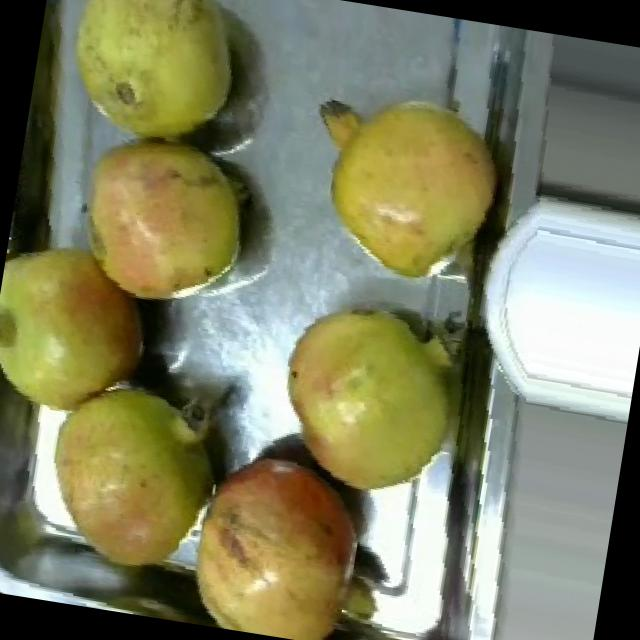fruit: (248, 282, 490, 518), (18, 354, 247, 596), (159, 423, 413, 640), (286, 68, 522, 300), (48, 109, 278, 329), (0, 222, 175, 444), (41, 0, 262, 160)
